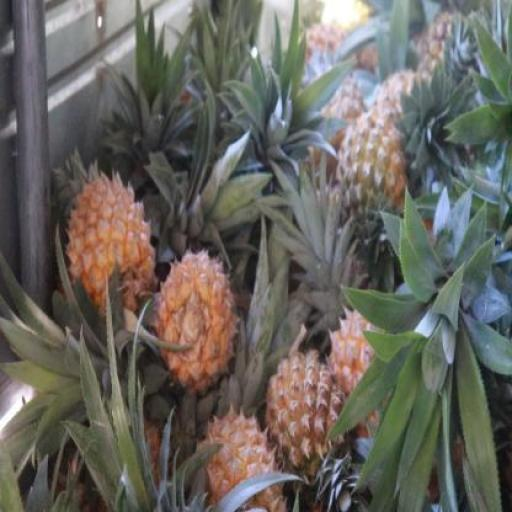Pineapple - v8 v1: (66, 168, 156, 314), (267, 347, 346, 494), (157, 248, 236, 382), (196, 400, 288, 512)
